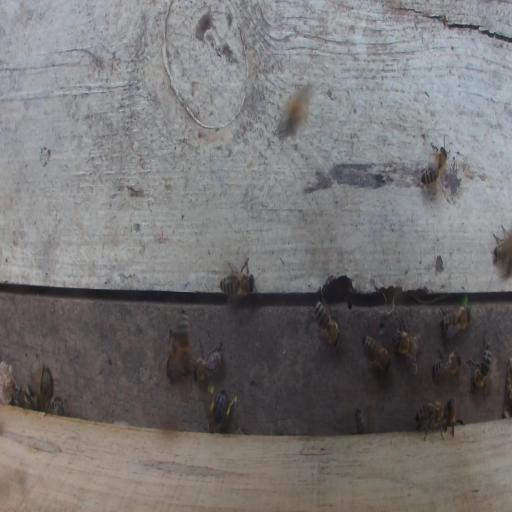nonpollenbee: (219, 255, 256, 311), (465, 330, 493, 391), (312, 291, 341, 349), (193, 336, 224, 385), (360, 326, 391, 375), (414, 401, 450, 442), (174, 304, 193, 378), (418, 144, 448, 187), (430, 345, 462, 384), (394, 324, 421, 367), (439, 303, 471, 339), (445, 396, 465, 438), (492, 222, 512, 264), (39, 361, 54, 414), (44, 396, 64, 420)
pollenbee: (206, 385, 238, 433)
